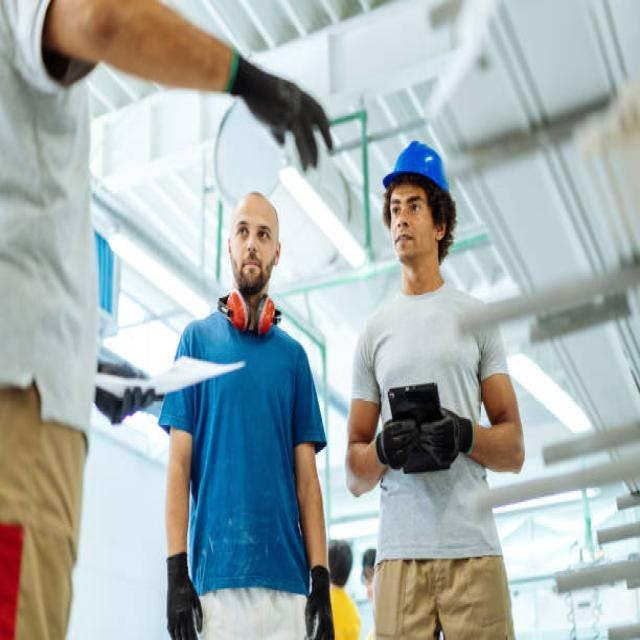Gloves: (225, 46, 340, 172), (94, 356, 165, 426), (416, 401, 479, 474), (161, 549, 206, 640), (301, 558, 341, 640), (374, 414, 419, 479)
helmet: (382, 134, 452, 202)
person: (344, 139, 531, 640), (160, 186, 336, 640)
